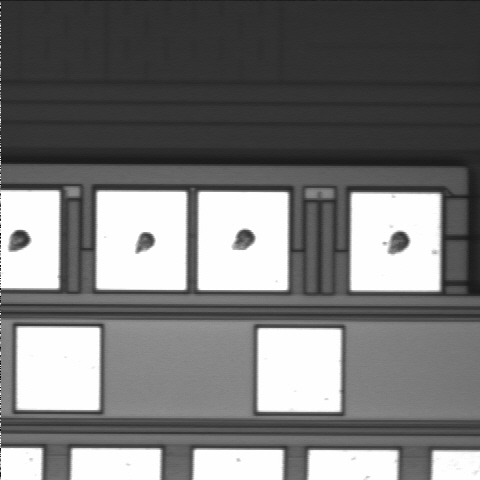pad: (198, 192, 288, 290), (97, 191, 186, 290), (351, 193, 440, 291), (258, 328, 341, 412), (17, 327, 100, 410)
